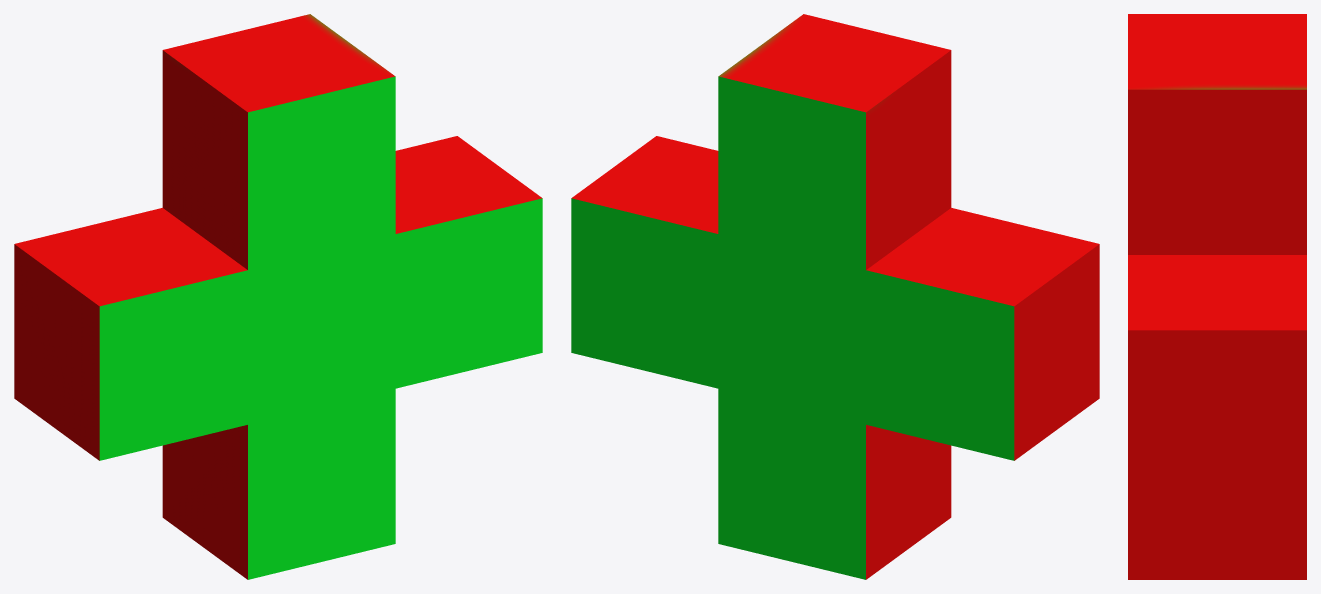
The model's file is vida.fbx.
The picture shows the model from 3 angles, left to right: view 1: azimuth 30°, elevation 25°; view 2: azimuth 150°, elevation 25°; view 3: azimuth 270°, elevation 25°; orthographic projection. The views are drawn at different scales.
Visible parts, largest first — view 1: Cube; view 2: Cube; view 3: Cube.
Part boxes in pixels (x1,y1,x2,y2): Cube: (14,14,542,579); Cube: (571,14,1099,579); Cube: (1128,14,1306,579).
Bounding box in the file's own units: 600 × 605 × 200.
Materials: 1 (1 with a texture image).
